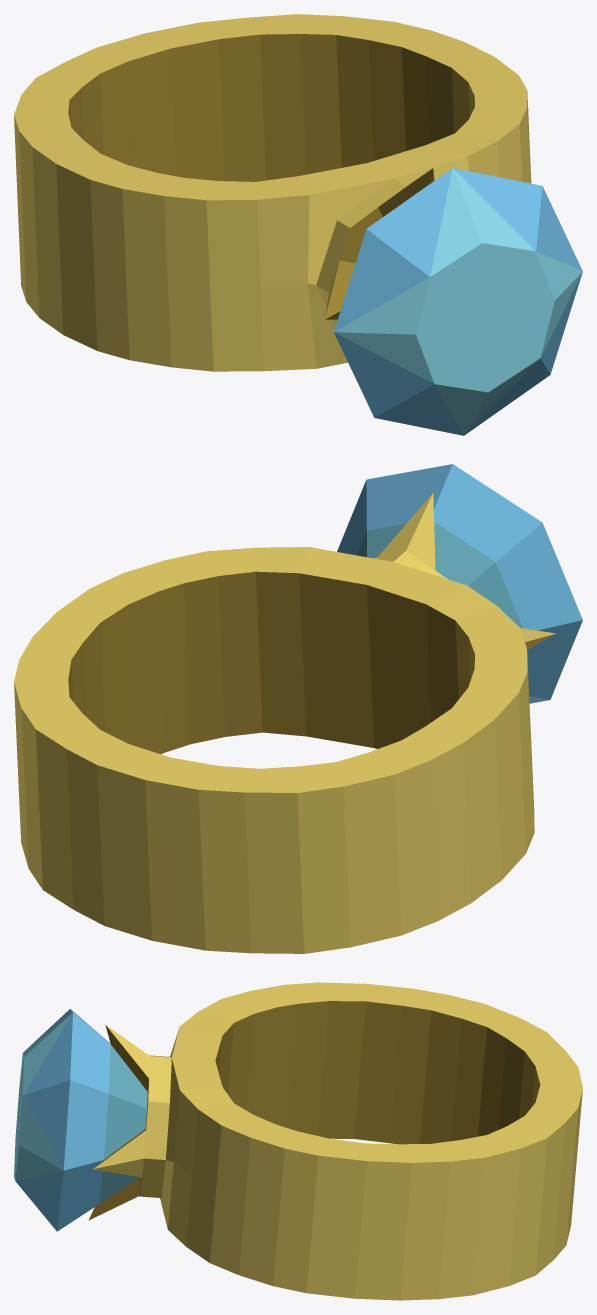
File: ring.glb
3 renders of one model, top to bottom at view 1: azimuth 30°, elevation 25°; view 2: azimuth 150°, elevation 25°; view 3: azimuth 270°, elevation 25°, orthographic. The views are drawn at different scales.
Visible parts, largest first — view 1: Circle; view 2: Circle; view 3: Circle.
Boxes of the visible parts, x1,y1,x2,y2 form: Circle: (14, 14, 582, 435); Circle: (14, 464, 582, 953); Circle: (14, 982, 582, 1300).
Bounding box in the file's own units: 3.1 × 1.76 × 4.21.
